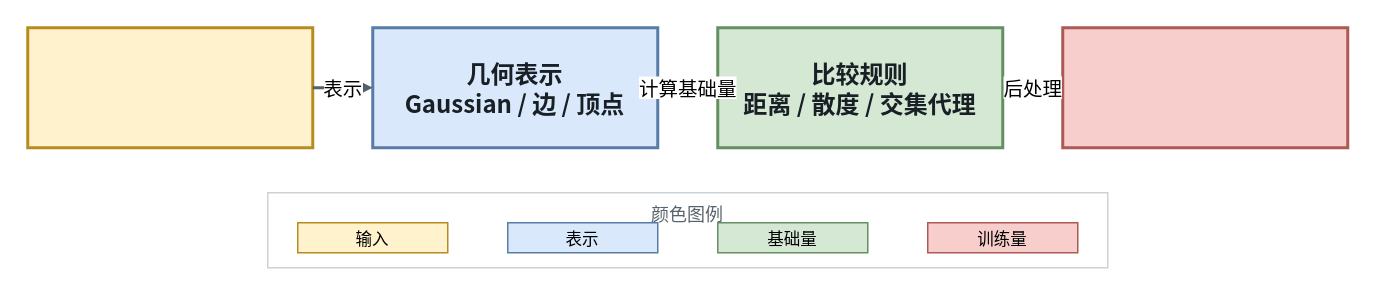
The diagram is 1374 pixels wide and 294 high, and some of its shapes have lost their labels. The shapes that lost their labels are listed below. From the top down, each one's centre as x and y in pixels, then its label:
pixel 170 87: 框参数 HBB / OBB / 多边形
pixel 1204 87: 检测训练量 相似度 / 回归 loss
